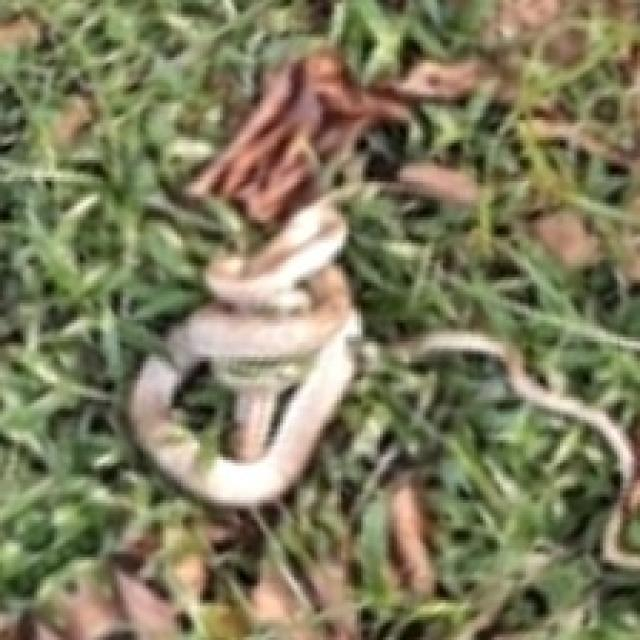paradise tree snake: (129, 197, 360, 506)
